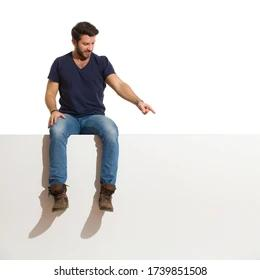short sleeve shirt: (47, 49, 117, 118)
trousers: (47, 112, 120, 187)
